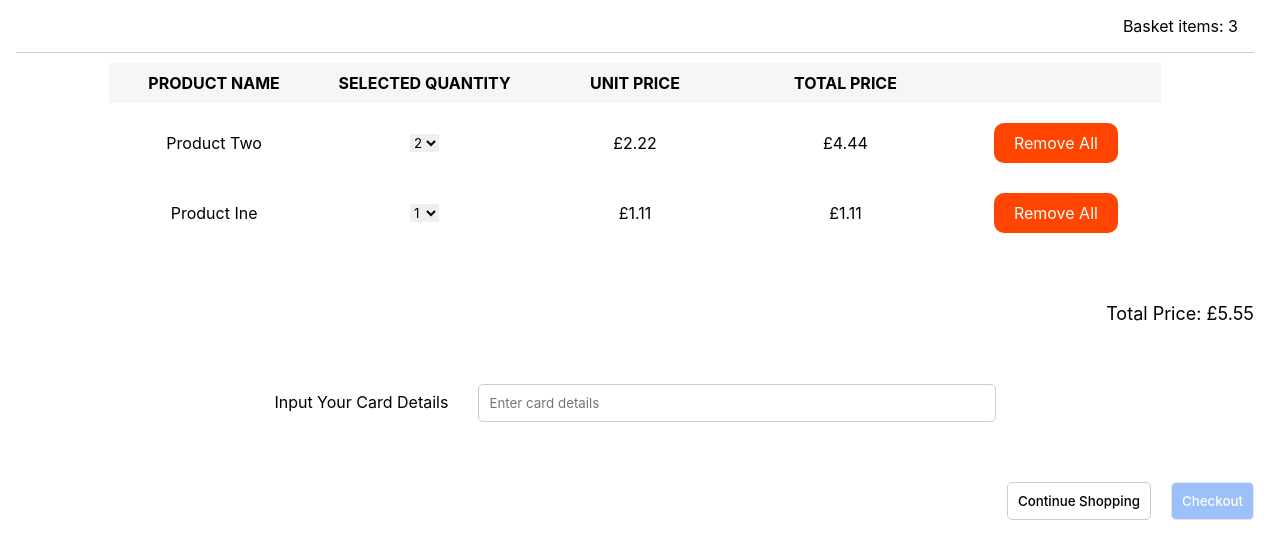
Test: Checkout Component › should change and remove items quantity correctly
Select "5" in the dropdown with test id "quantity-1". click: (424, 213)
box: [410,204,439,222]
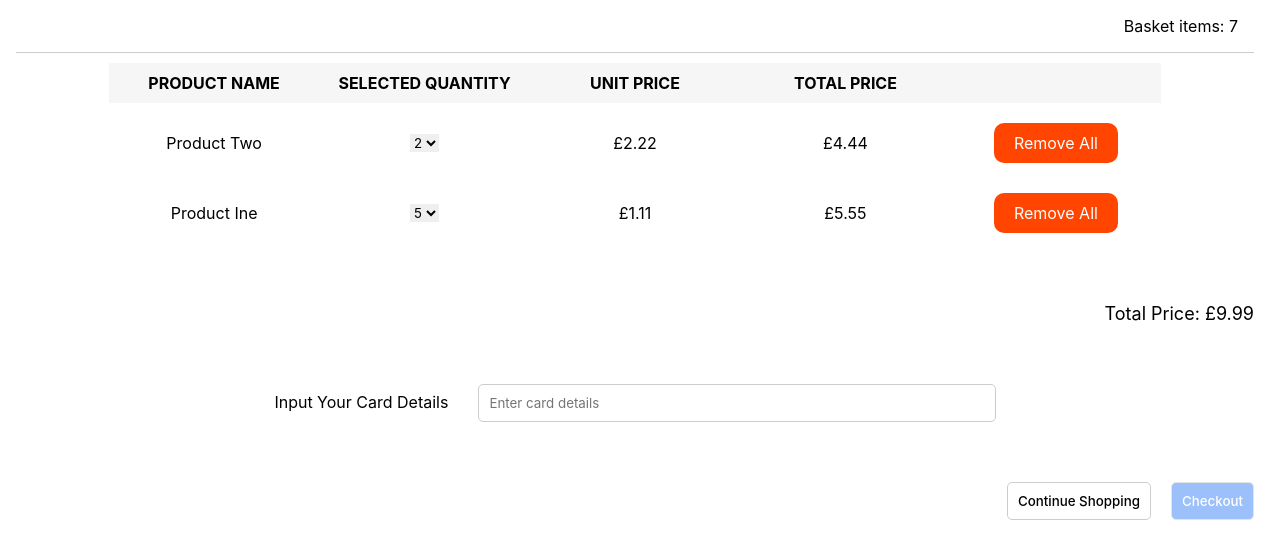
Expected: the link "Basket items: 7" is shown, [1124,16,1238,36]
Expected: the text "Total Price: £9.99" is shown, [1104,303,1254,324]
Click the button with test id "removeAllBtn-1". click: (1056, 213)
box: [994,193,1118,233]
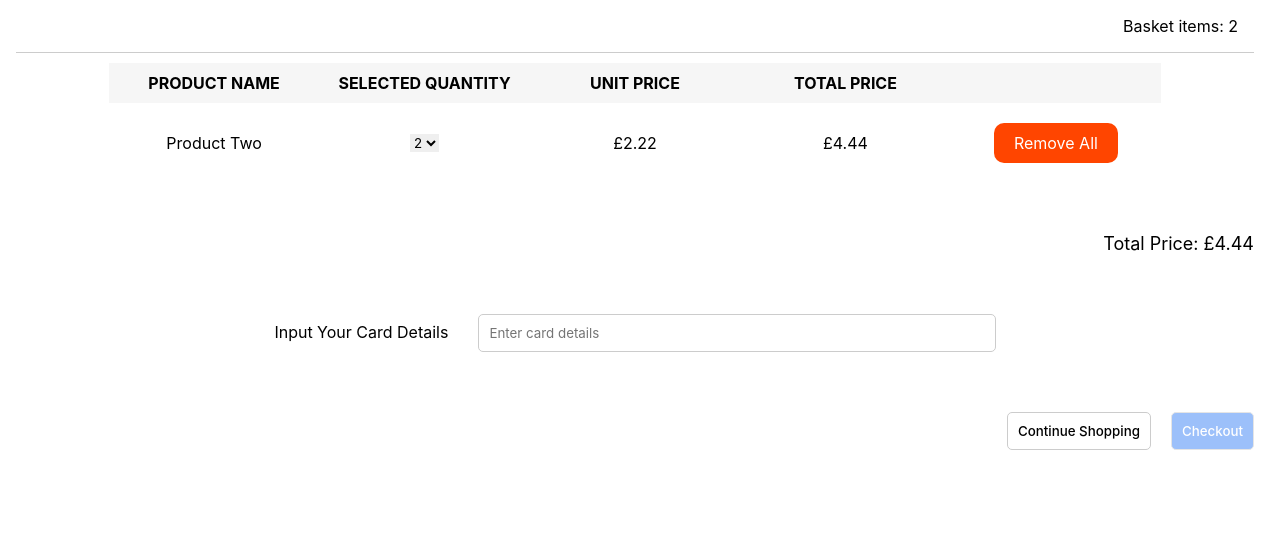
Expected: the text "£2.22" is shown, [613,133,657,153]
Expected: the link "Basket items: 2" is shown, [1123,16,1238,36]
